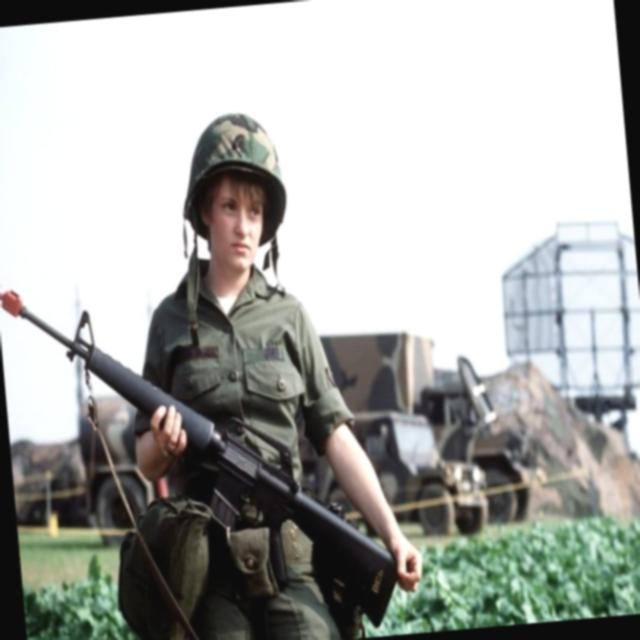m16: (13, 272, 322, 636)
